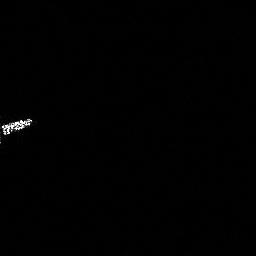ship: (1, 114, 35, 140)
